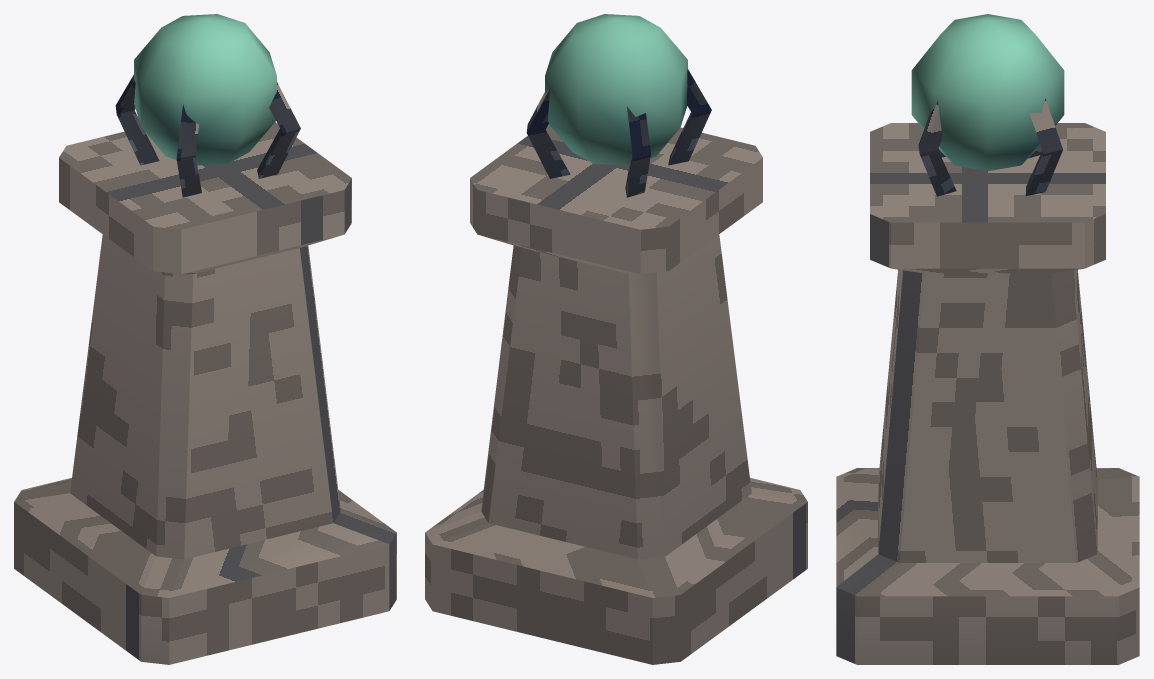
The model's file is dprop.switch.glb.
3 renders of one model, left to right at view 1: azimuth 30°, elevation 25°; view 2: azimuth 150°, elevation 25°; view 3: azimuth 270°, elevation 25°, orthographic. The views are drawn at different scales.
Visible parts, largest first — view 1: kit_pedestal, kit_orb, kit_claws; view 2: kit_pedestal, kit_orb, kit_claws; view 3: kit_pedestal, kit_orb, kit_claws.
Part boxes in pixels (x1,y1,x2,y2): kit_pedestal: [14, 122, 396, 664]; kit_orb: [134, 14, 276, 165]; kit_claws: [115, 75, 300, 197]; kit_pedestal: [425, 124, 807, 664]; kit_orb: [545, 14, 687, 165]; kit_claws: [526, 69, 711, 197]; kit_pedestal: [836, 123, 1139, 664]; kit_orb: [911, 14, 1064, 171]; kit_claws: [918, 98, 1062, 196].
Bounding box in the file's own units: 0.72 × 1.52 × 0.72.
3 materials, 2 textured.
